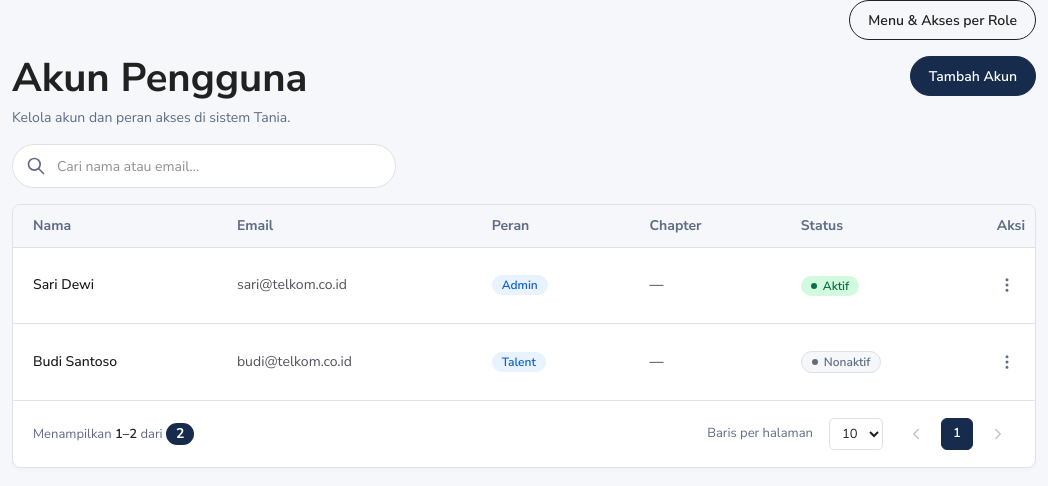
it: accounts management (Admin) — T053 › lists accounts with role badges and status
Expected: the text "Sari Dewi" is shown, [13, 248, 217, 324]
Expected: the cell "Admin" is shown, [472, 248, 630, 324]
Click the button named "Aksi Sari Dewi" at (1007, 285), box [989, 267, 1025, 303]
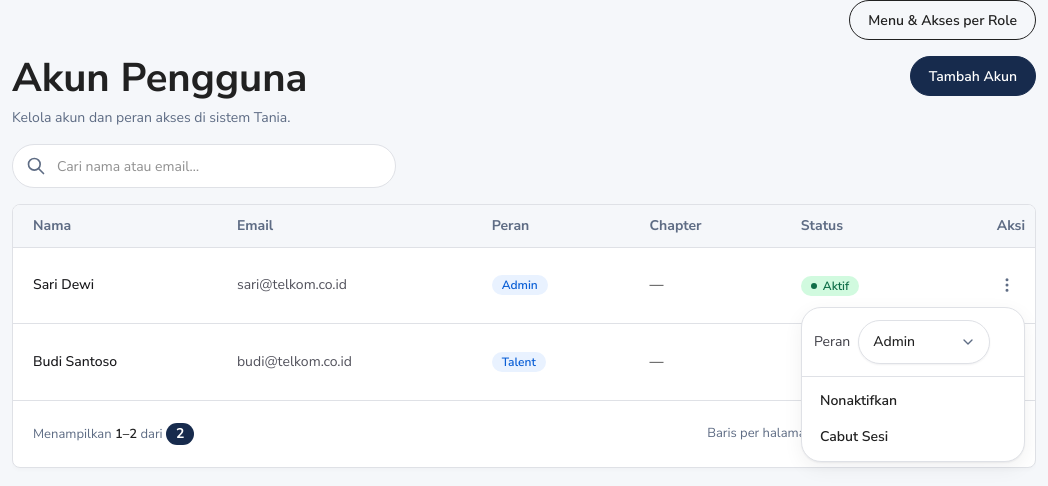
Expected: the cell "Talent" is shown, [472, 324, 630, 400]
Now the dropdown named "Ubah peran Sari Dewi" shows "Admin", box [858, 320, 990, 364]
